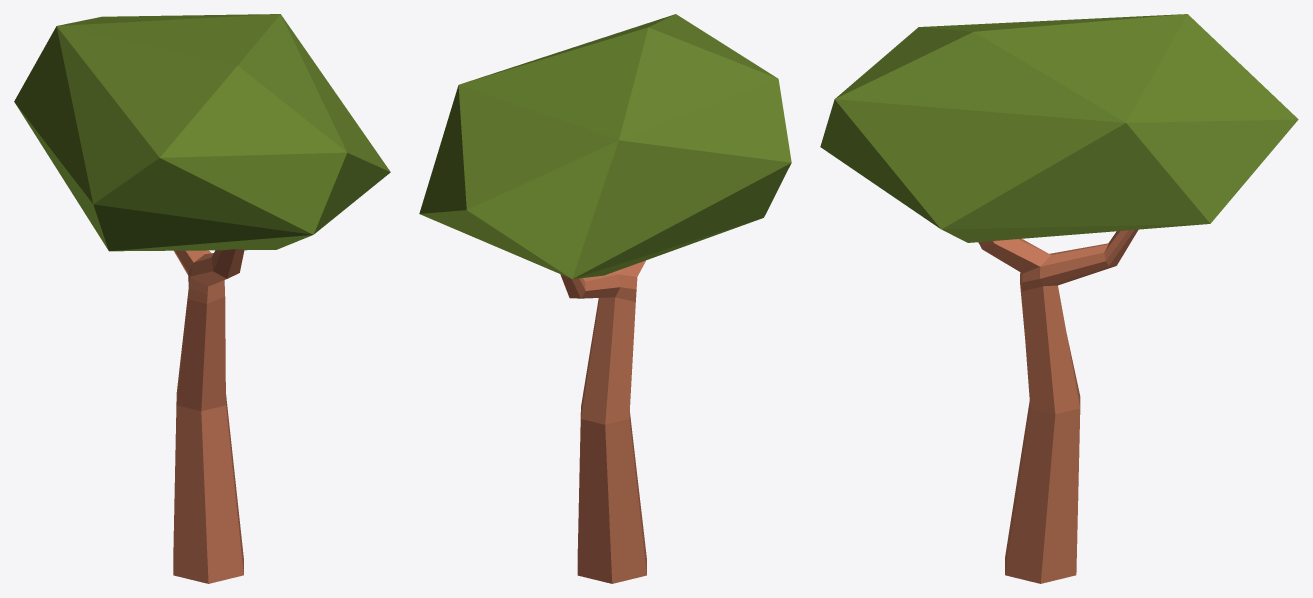
File: Tree_07_autumn_vc.fbx
The picture shows the model from 3 angles, left to right: view 1: azimuth 30°, elevation 25°; view 2: azimuth 150°, elevation 25°; view 3: azimuth 270°, elevation 25°; orthographic projection. The views are drawn at different scales.
Visible parts, largest first — view 1: Tree_07_autumn_vc; view 2: Tree_07_autumn_vc; view 3: Tree_07_autumn_vc.
Boxes of the visible parts, x1,y1,x2,y2 form: Tree_07_autumn_vc: [14, 14, 390, 583]; Tree_07_autumn_vc: [419, 14, 791, 583]; Tree_07_autumn_vc: [820, 14, 1298, 583].
Size of the model in its own units: 3.48 by 6.19 by 5.04.
